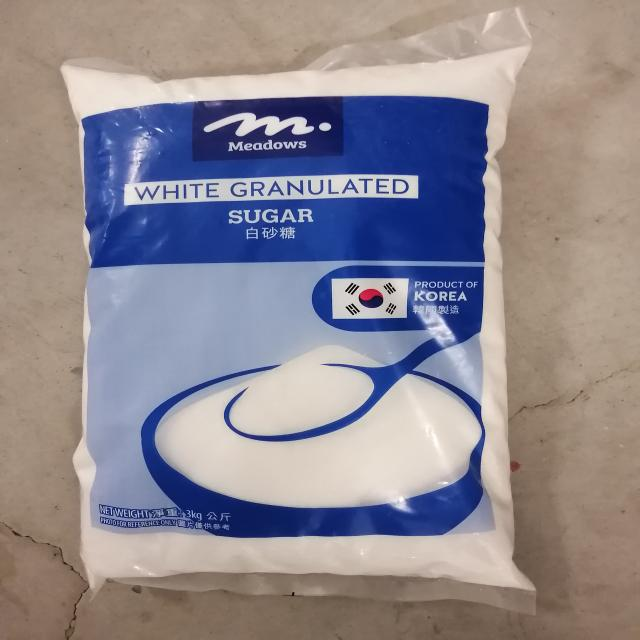object_name: (67, 63, 523, 591)
